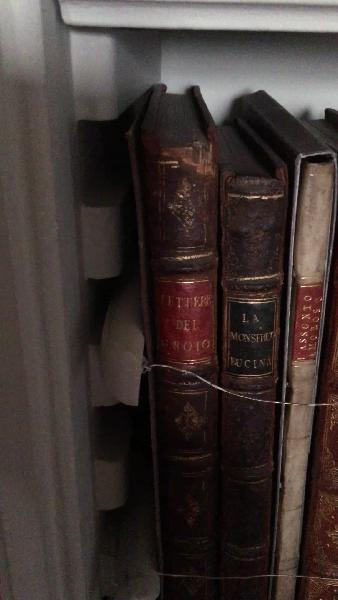Aa6-1: (115, 123, 230, 600)
Aa6-2: (209, 157, 289, 600)
Aa6-3: (272, 125, 334, 600)
